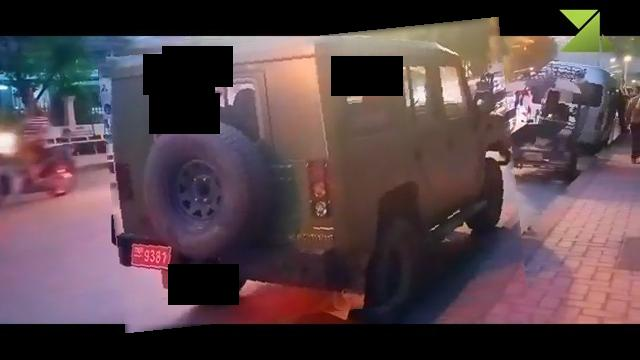MIL_HMMWV: (103, 27, 520, 323), (538, 62, 620, 156), (622, 87, 640, 164), (614, 78, 629, 134)
